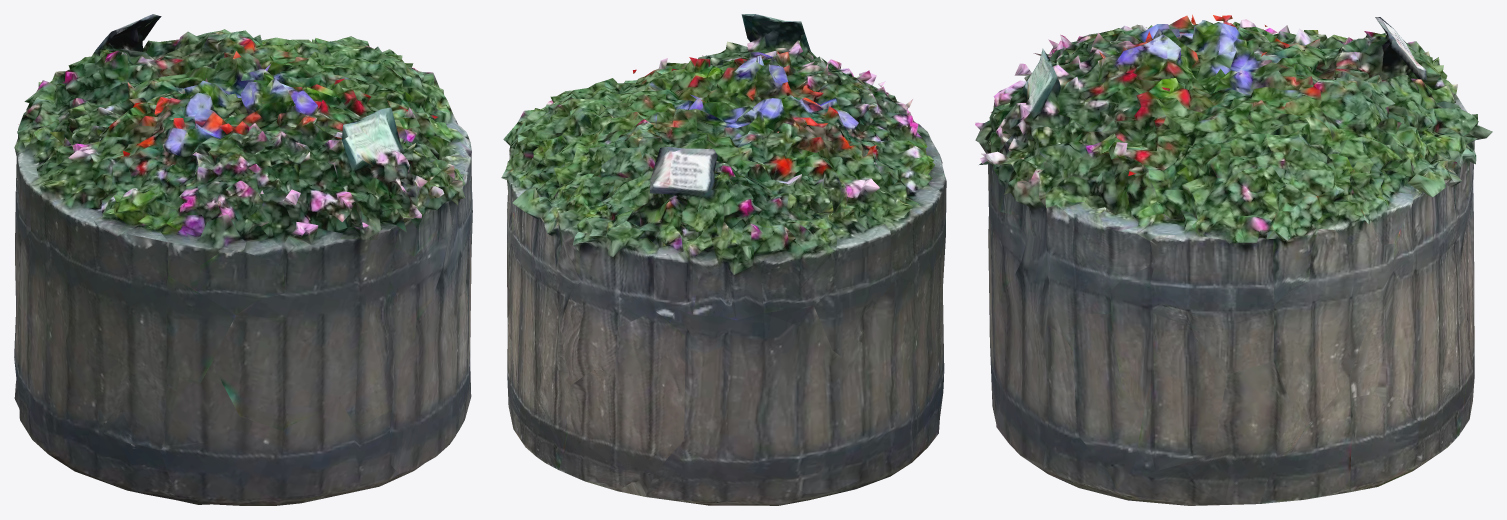
Rendered from flower_bed.glb.
3 views of the same model, side by side, from view 1: azimuth 30°, elevation 25°; view 2: azimuth 150°, elevation 25°; view 3: azimuth 270°, elevation 25° (orthographic). The views are drawn at different scales.
Parts seen in each view (by area): view 1: g0; view 2: g0; view 3: g0.
Boxes of the visible parts, <box> form: g0: <box>14,14,472,505</box>; g0: <box>501,14,946,505</box>; g0: <box>975,14,1492,505</box>.
Size of the model in its own units: 0.9444 by 0.8074 by 0.9869.
Materials: 1 (1 with a texture image).
